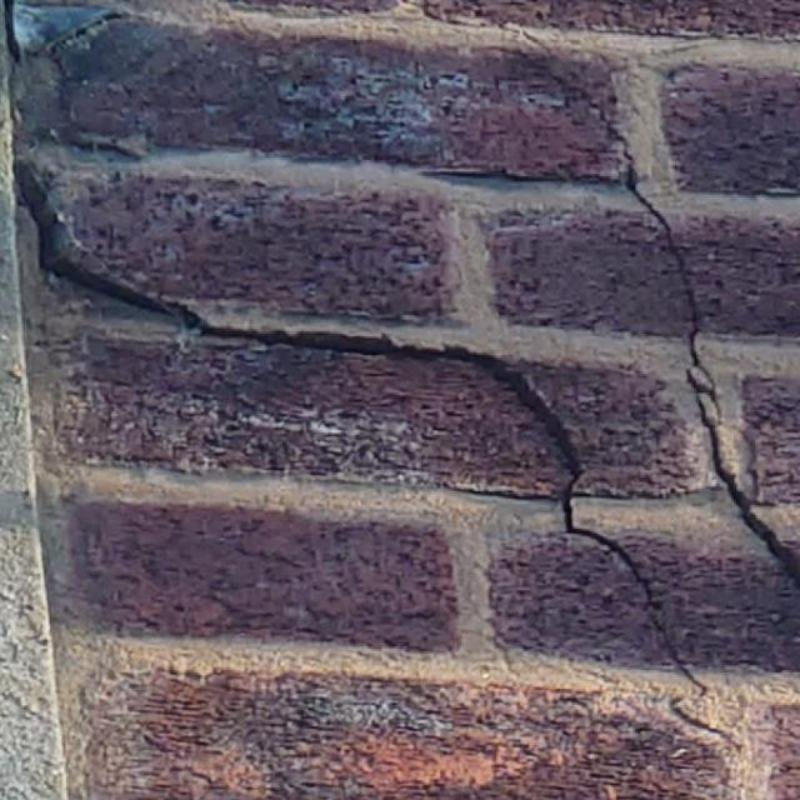crack: (16, 159, 706, 691), (625, 165, 800, 586), (670, 698, 739, 750)
